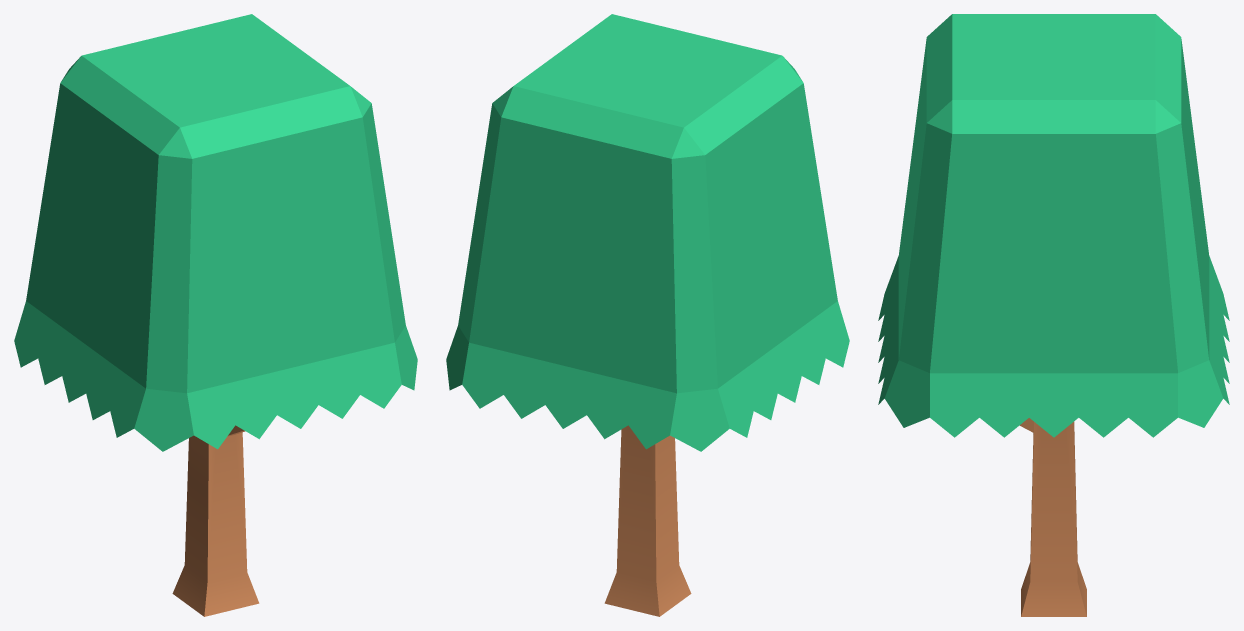
Rendered from tree.glb.
3 renders of one model, left to right at view 1: azimuth 30°, elevation 25°; view 2: azimuth 150°, elevation 25°; view 3: azimuth 270°, elevation 25°, orthographic. The views are drawn at different scales.
Parts seen in each view (by area): view 1: tree; view 2: tree; view 3: tree.
Part boxes in pixels (box(x1,y1,x2,y2)): tree: box(14, 14, 417, 616); tree: box(446, 14, 849, 616); tree: box(878, 14, 1229, 616).
Bounding box in the file's own units: 1.13 × 1.94 × 1.13.
